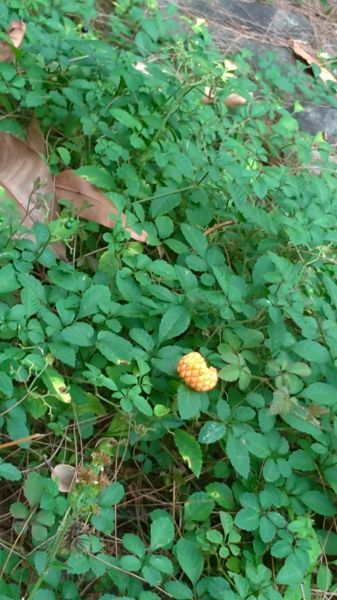eggs: (170, 348, 225, 398)
